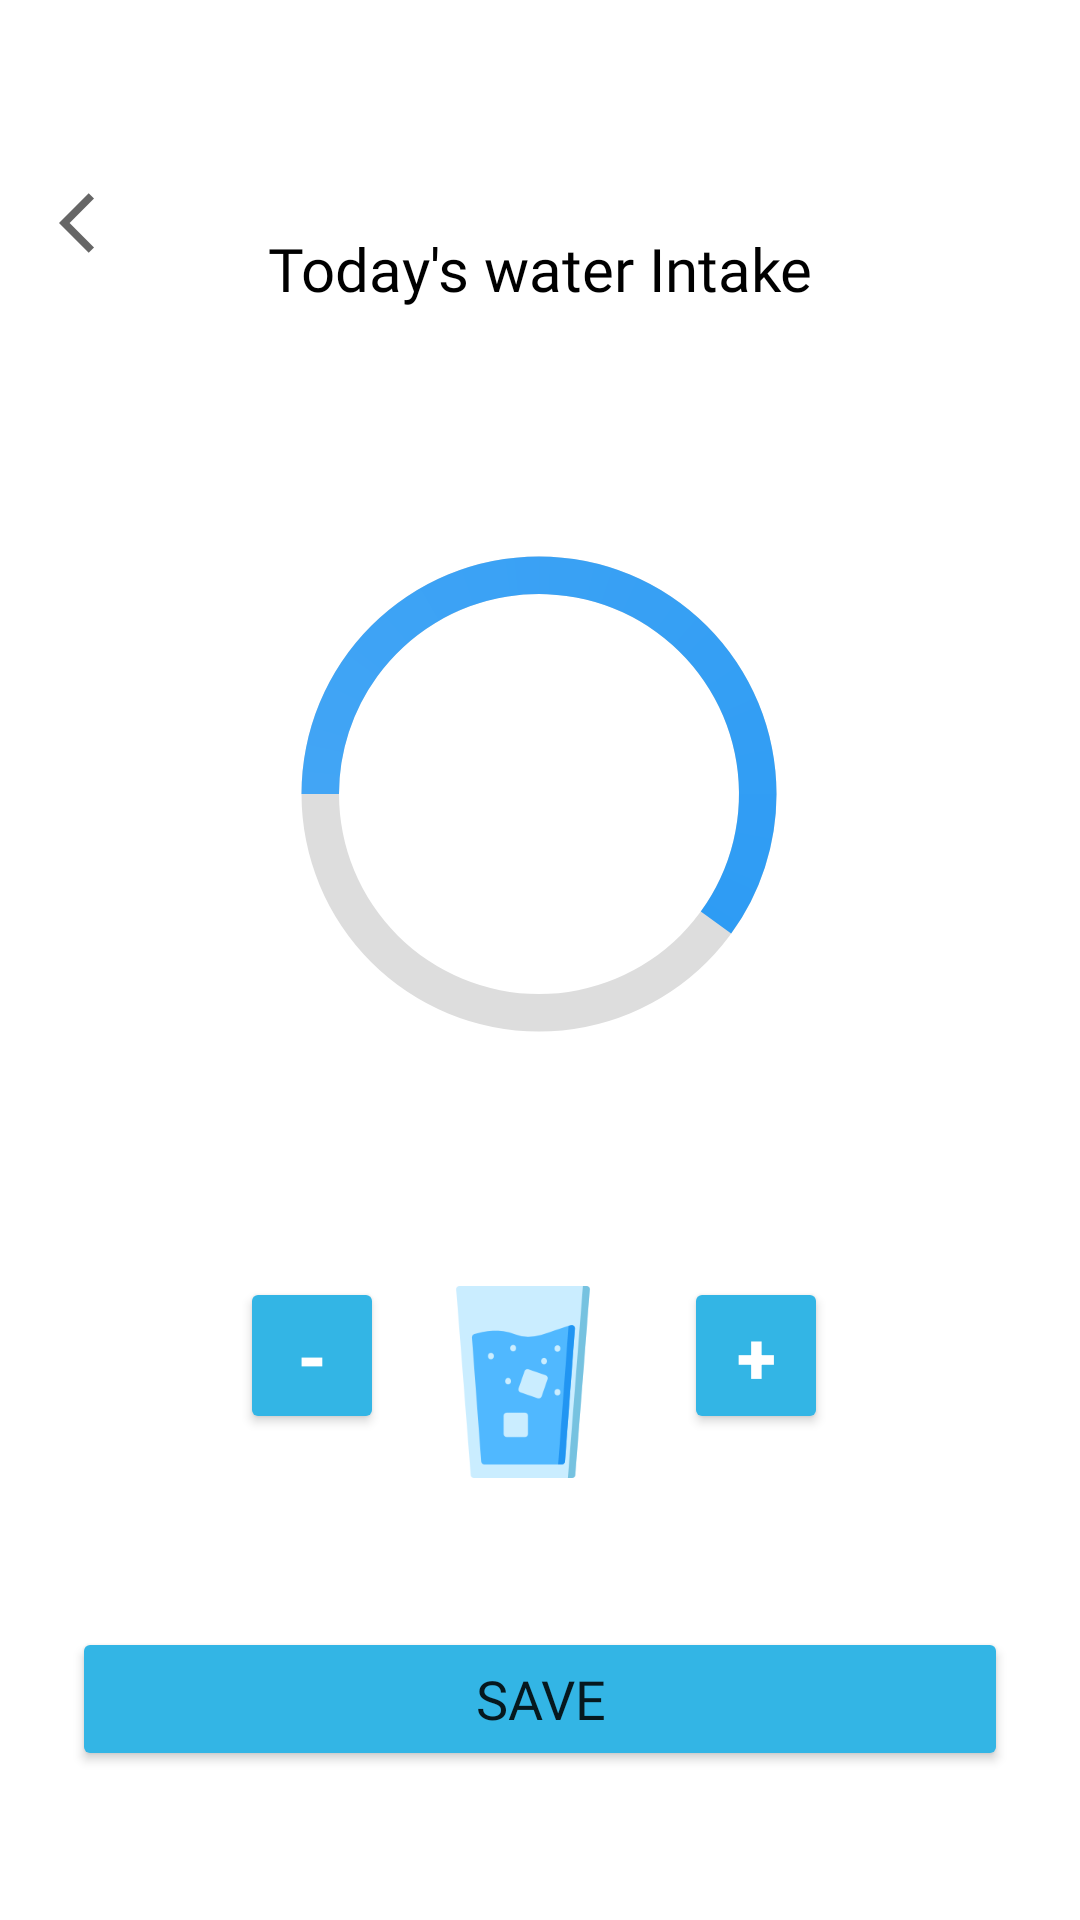

Icons on this 1080*1920 Android screen, each with the point to tap as (x=x, y=y):
arrow back: (x=76, y=223)
water: (x=523, y=1382)
